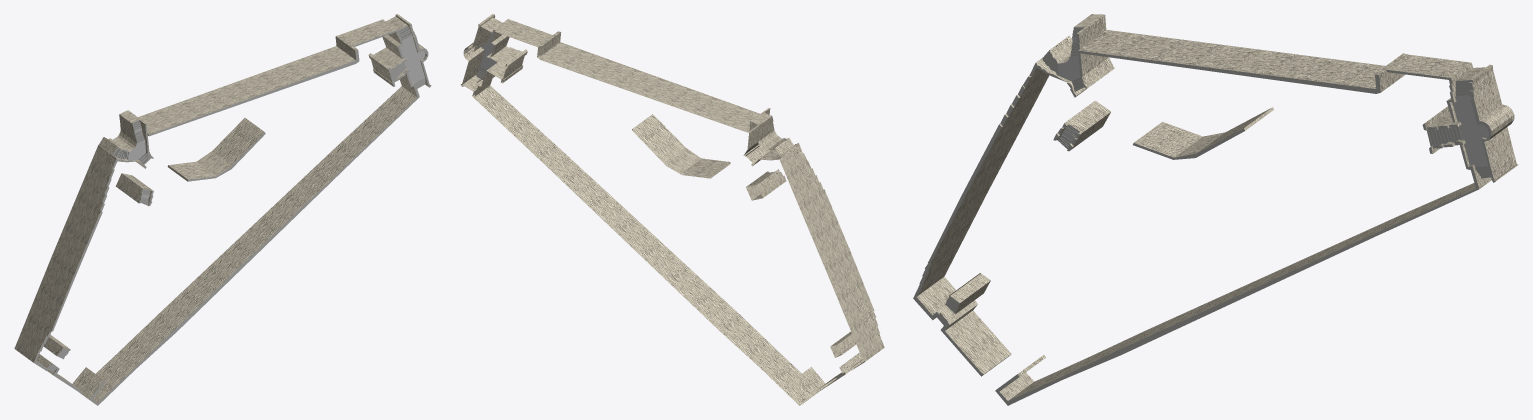
The model's file is Viru_magi_myyr-origo.obj.
The picture shows the model from 3 angles, left to right: view 1: azimuth 30°, elevation 25°; view 2: azimuth 150°, elevation 25°; view 3: azimuth 330°, elevation 25°; orthographic projection. The views are drawn at different scales.
Parts seen in each view (by area): view 1: Viru_magi_myyr; view 2: Viru_magi_myyr; view 3: Viru_magi_myyr.
Part boxes in pixels (box(x1,y1,x2,y2)): Viru_magi_myyr: box(14, 14, 431, 405); Viru_magi_myyr: box(460, 14, 884, 405); Viru_magi_myyr: box(913, 14, 1518, 405).
Size of the model in its own units: 124 by 88.5 by 12.44.
